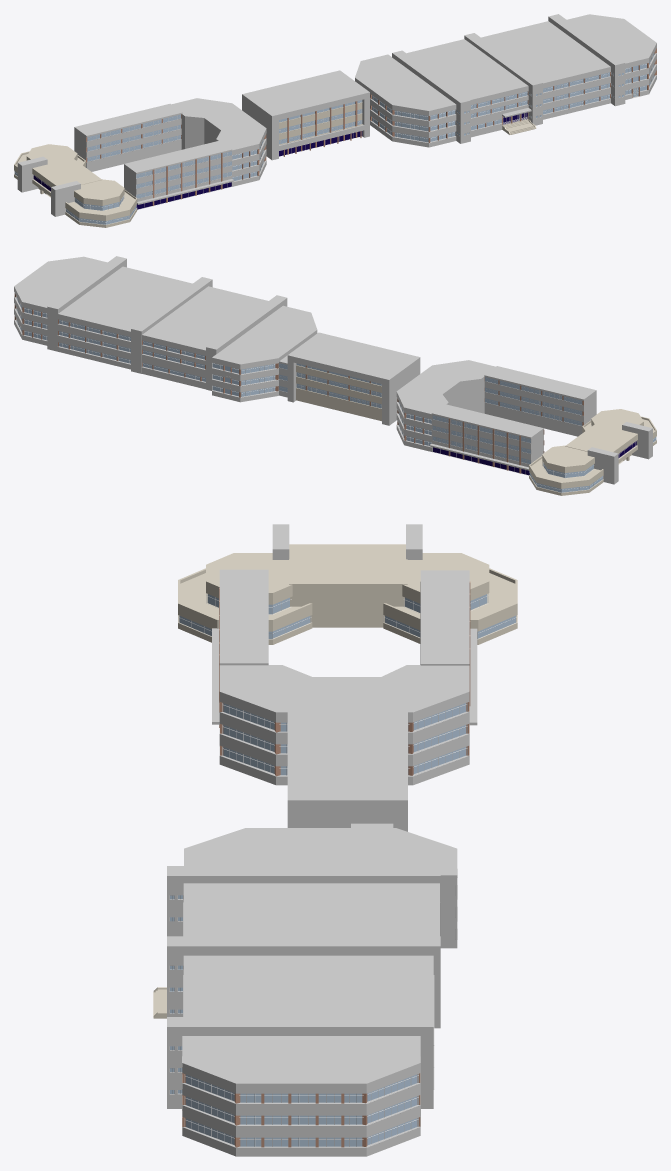
The picture shows the model from 3 angles, top to bottom: view 1: azimuth 30°, elevation 25°; view 2: azimuth 150°, elevation 25°; view 3: azimuth 270°, elevation 25°; orthographic projection. The views are drawn at different scales.
Parts seen in each view (by area): view 1: Circle.004, Circle, Circle.006, Circle.001, Circle.002, Circle.005, Circle.003; view 2: Circle.004, Circle, Circle.006, Circle.001, Circle.002, Circle.005; view 3: Circle.004, Circle.006, Circle, Circle.001, Circle.002, Circle.003.
Boxes of the visible parts, bbox=[...] form: Circle.004: bbox=[17, 14, 656, 216]; Circle: bbox=[14, 53, 654, 224]; Circle.006: bbox=[14, 88, 638, 227]; Circle.001: bbox=[86, 48, 656, 205]; Circle.002: bbox=[87, 53, 654, 209]; Circle.005: bbox=[33, 112, 527, 209]; Circle.003: bbox=[14, 113, 527, 224]; Circle.004: bbox=[14, 256, 652, 484]; Circle: bbox=[16, 297, 656, 492]; Circle.006: bbox=[296, 365, 656, 495]; Circle.001: bbox=[14, 293, 583, 473]; Circle.002: bbox=[16, 296, 581, 475]; Circle.005: bbox=[433, 441, 636, 475]; Circle.004: bbox=[167, 524, 477, 1156]; Circle.006: bbox=[153, 544, 517, 1018]; Circle: bbox=[170, 594, 515, 1146]; Circle.001: bbox=[182, 582, 470, 1147]; Circle.002: bbox=[169, 885, 455, 1146]; Circle.003: bbox=[169, 593, 516, 921].
Size of the model in its own units: 38670 by 2774 by 10289.
